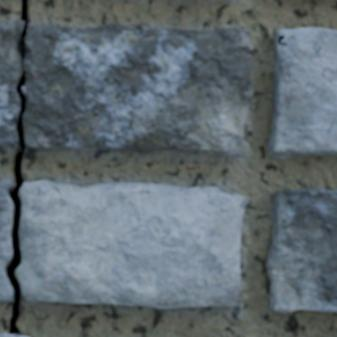brick: (270, 28, 336, 158), (268, 189, 336, 313), (0, 334, 7, 336)
broken_brick: (23, 23, 253, 156), (17, 180, 246, 309), (0, 19, 22, 148), (0, 180, 13, 265), (0, 270, 11, 302)
crack: (0, 0, 30, 336), (277, 33, 288, 46), (161, 147, 183, 150), (236, 149, 242, 152)
